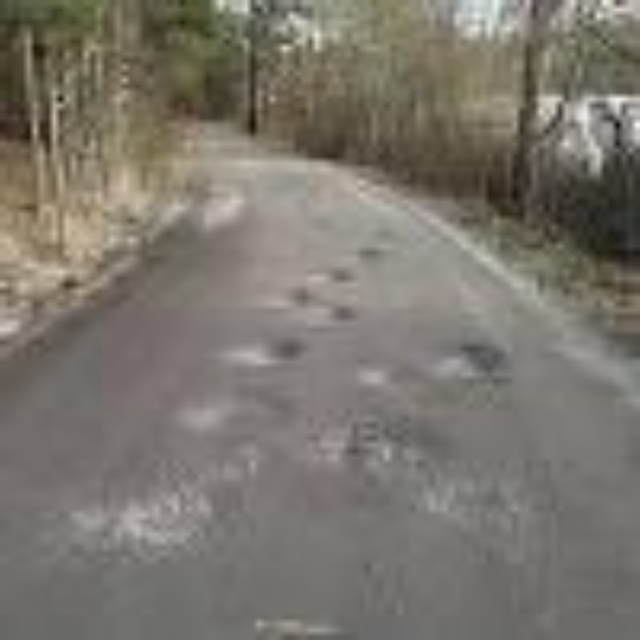pothole: (224, 237, 390, 371), (320, 403, 416, 474), (448, 326, 506, 416), (467, 442, 506, 518)
